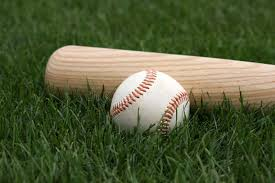baseball bat: (43, 44, 275, 109)
